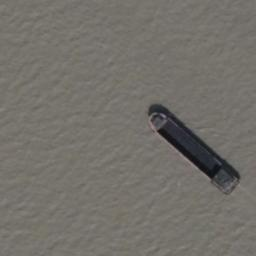boat: (145, 109, 240, 196)
